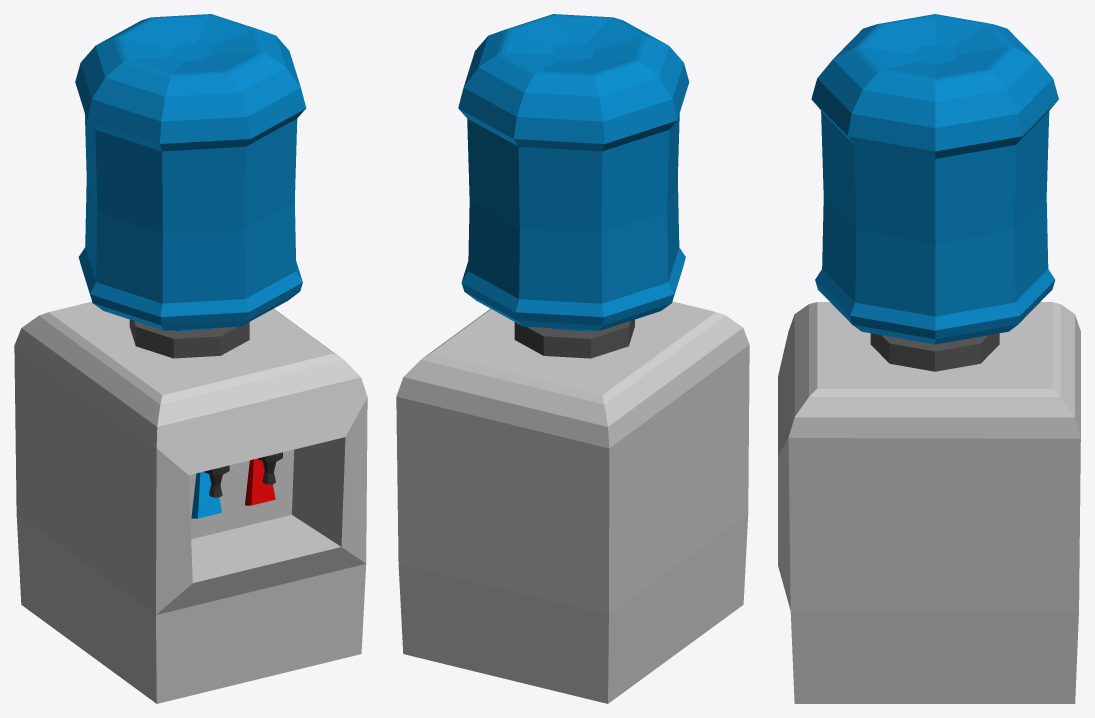
The model's file is binhnuoc.fbx.
3 renders of one model, left to right at view 1: azimuth 30°, elevation 25°; view 2: azimuth 150°, elevation 25°; view 3: azimuth 270°, elevation 25°, orthographic. The views are drawn at different scales.
Parts seen in each view (by area): view 1: binhnuoc; view 2: binhnuoc; view 3: binhnuoc.
Boxes of the visible parts, x1,y1,x2,y2 form: binhnuoc: (14,14,367,703); binhnuoc: (396,14,749,703); binhnuoc: (778,14,1080,703).
Bounding box in the file's own units: 80.72 × 212 × 96.01.
1 material, 1 textured.
